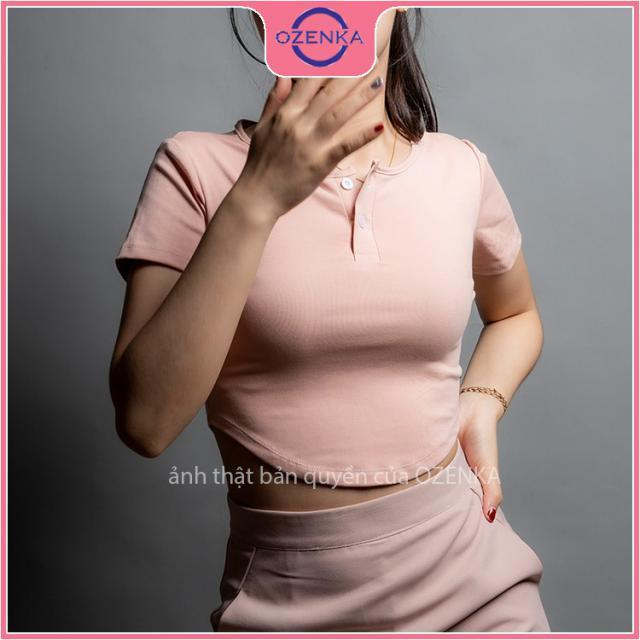Shirt: (111, 115, 535, 493)
